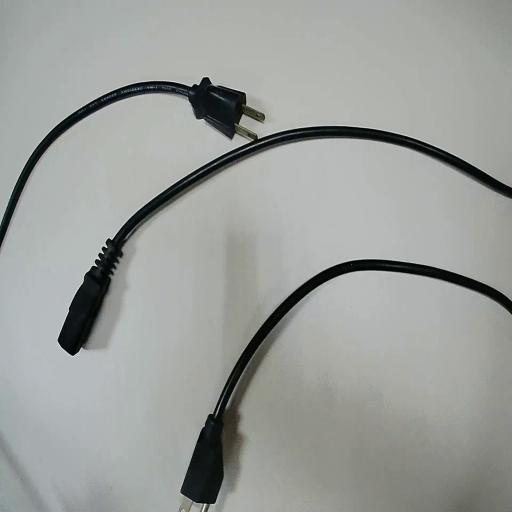wire: (59, 127, 511, 353), (182, 260, 511, 503), (0, 78, 250, 243)
